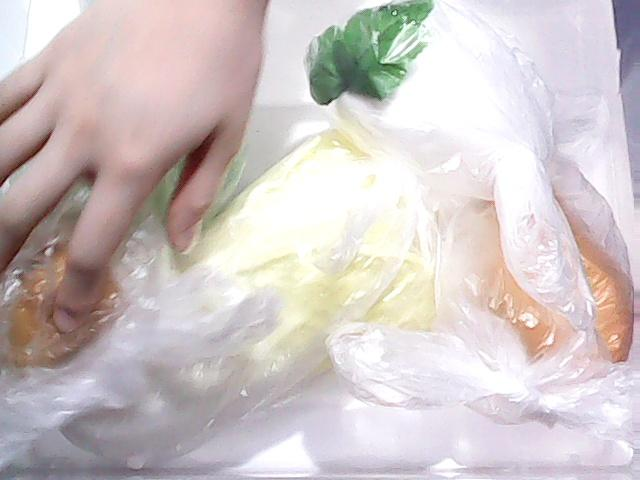mango: (442, 157, 636, 394)
napa cabbage: (39, 111, 434, 469)
potato: (0, 243, 124, 374)
radish: (305, 1, 559, 202)
